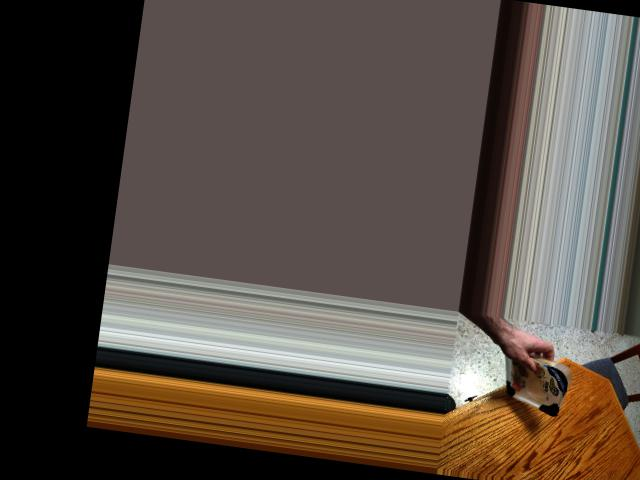cheese: (496, 352, 576, 412)
